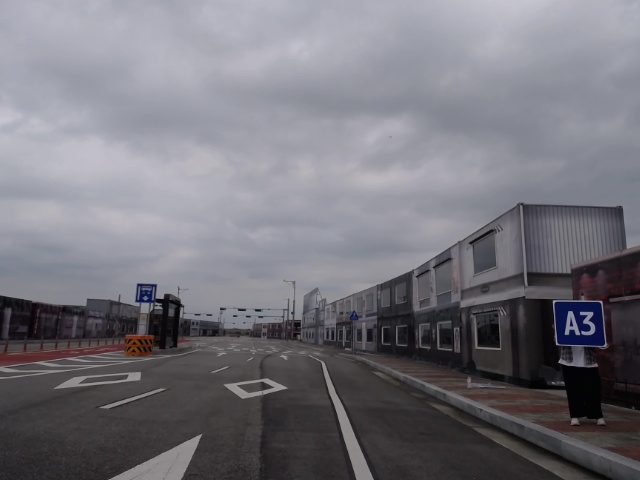delivery_a3: (553, 300, 606, 347)
